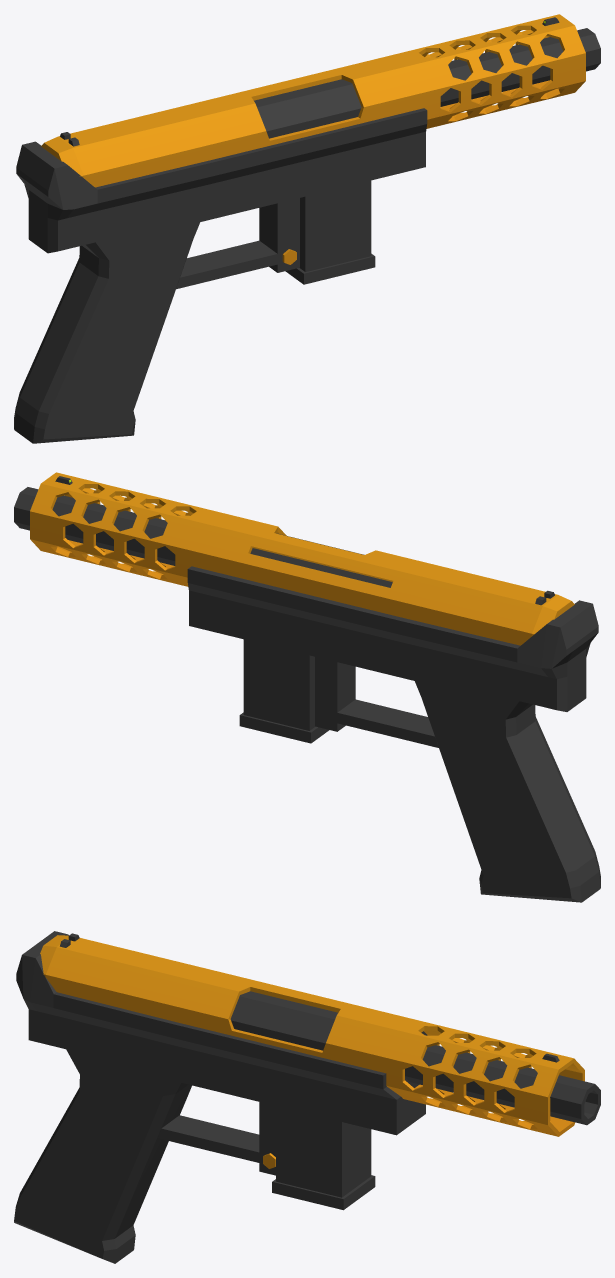
The model's file is Pistol6_03.fbx.
3 renders of one model, top to bottom at view 1: azimuth 30°, elevation 25°; view 2: azimuth 150°, elevation 25°; view 3: azimuth 330°, elevation 25°, orthographic.
Visible parts, largest first — view 1: Pistol6_03; view 2: Pistol6_03; view 3: Pistol6_03.
Boxes of the visible parts, left/top/right/bottom form: Pistol6_03: left=14, top=14, right=600, bottom=443; Pistol6_03: left=14, top=472, right=600, bottom=902; Pistol6_03: left=14, top=931, right=600, bottom=1263.
Size of the model in its own units: 0.3373 by 0.1735 by 0.0451.
